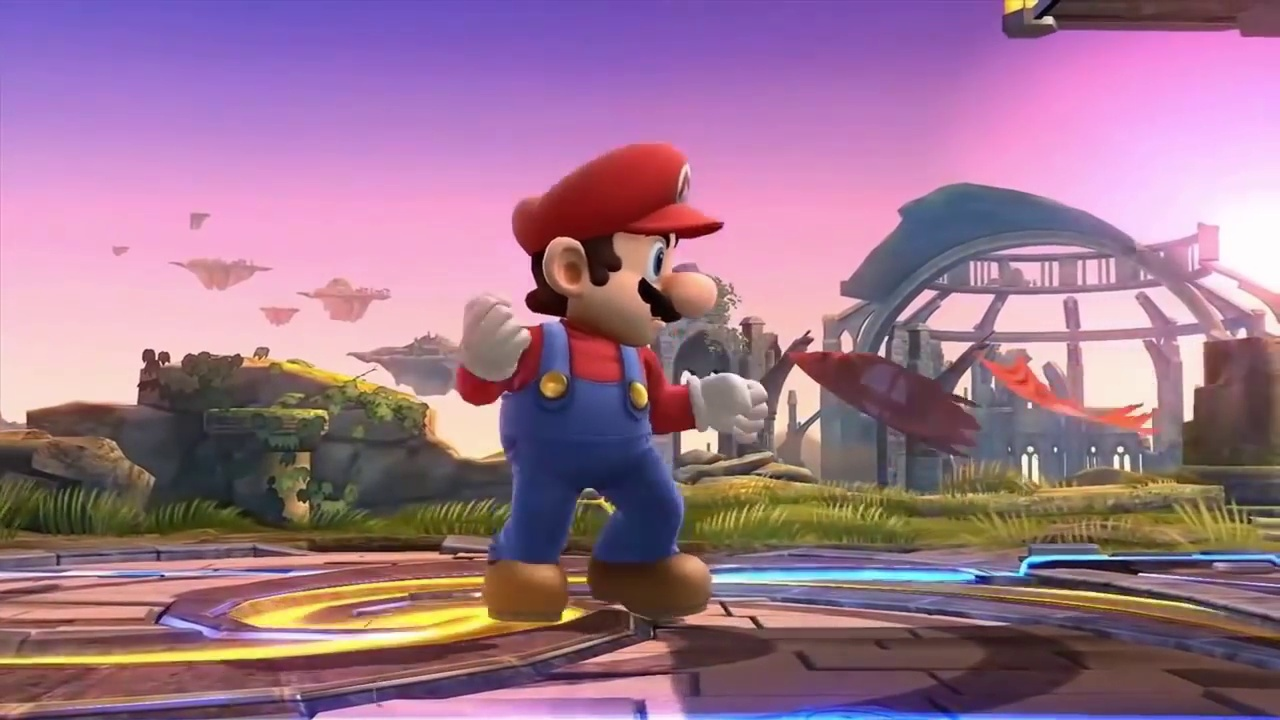Mario: (456, 141, 767, 621)
